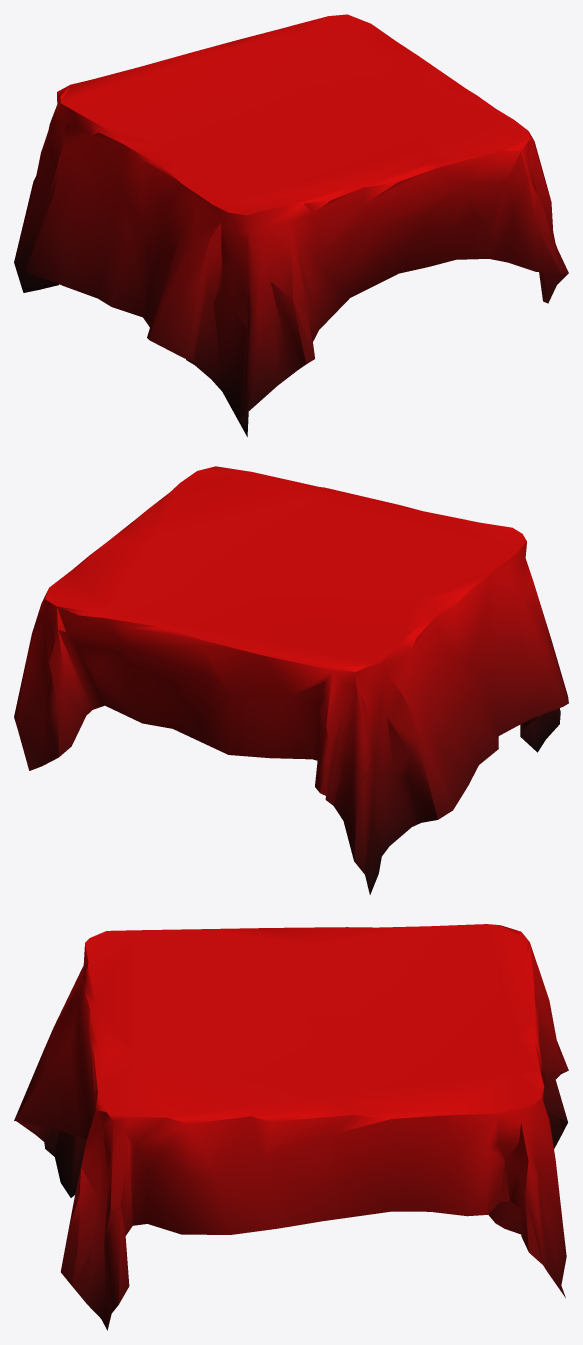
Rendered from SM_TallTable_Tablecloth.fbx.
3 renders of one model, top to bottom at view 1: azimuth 30°, elevation 25°; view 2: azimuth 150°, elevation 25°; view 3: azimuth 270°, elevation 25°, orthographic. The views are drawn at different scales.
Parts seen in each view (by area): view 1: normal1; view 2: normal1; view 3: normal1.
Boxes of the visible parts, box(x1,y1,x2,y2) form: normal1: box(14, 14, 568, 436); normal1: box(14, 466, 568, 894); normal1: box(14, 924, 568, 1330).
Bounding box in the file's own units: 77.62 × 40.01 × 75.47.
